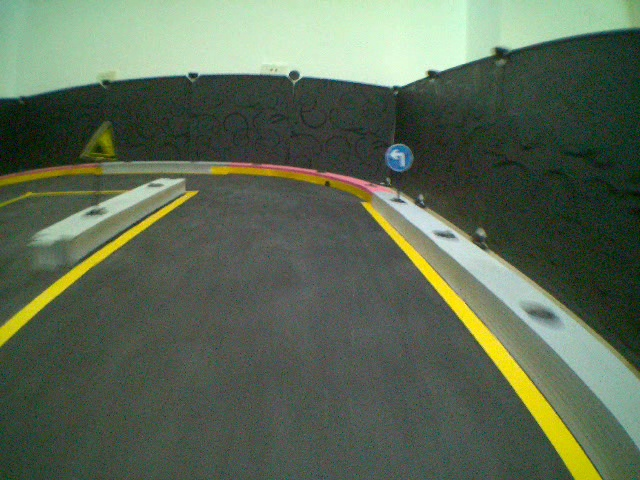fast: (79, 118, 119, 162)
turn: (384, 142, 414, 173)
